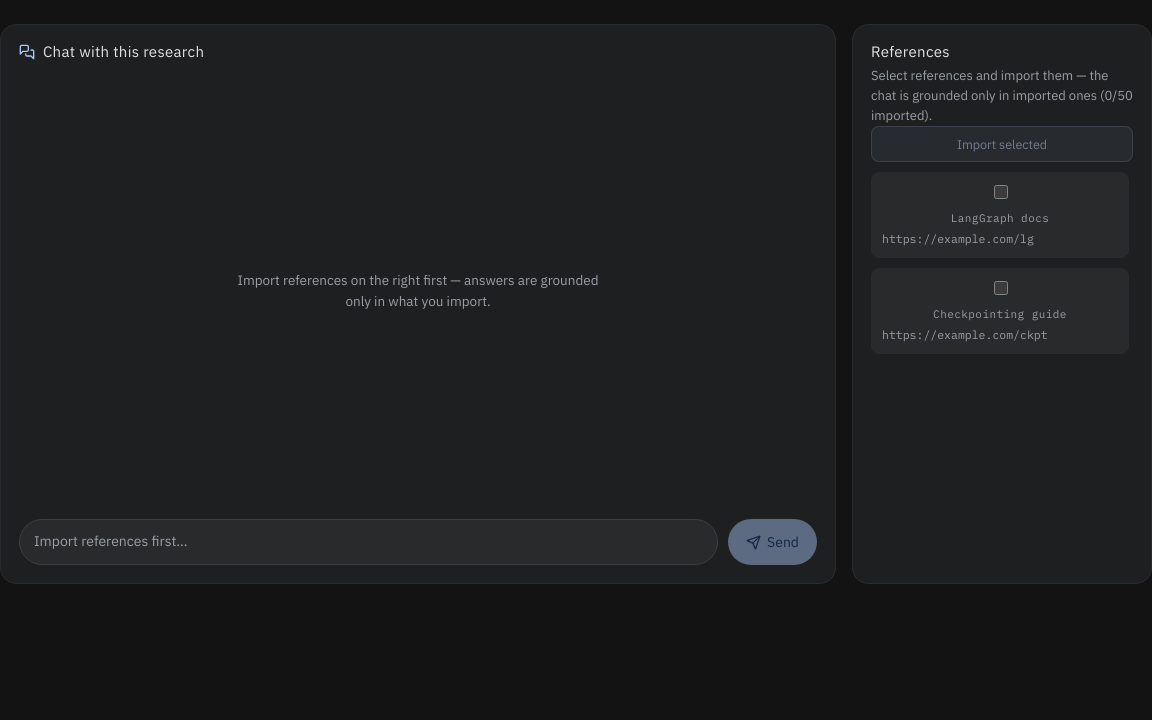
Test: ChatPanel › imports selected references, then sends messages grounded in the import set
This screenshot has width=1152, height=720.
expect the text "LangGraph docs" is shown: met, box x1=951 y1=210 x2=1049 y2=227
Note: Import only the first source.
Click the checkbox labelled "LangGraph docs": point(1000, 192) x1=994 y1=185 x2=1008 y2=199
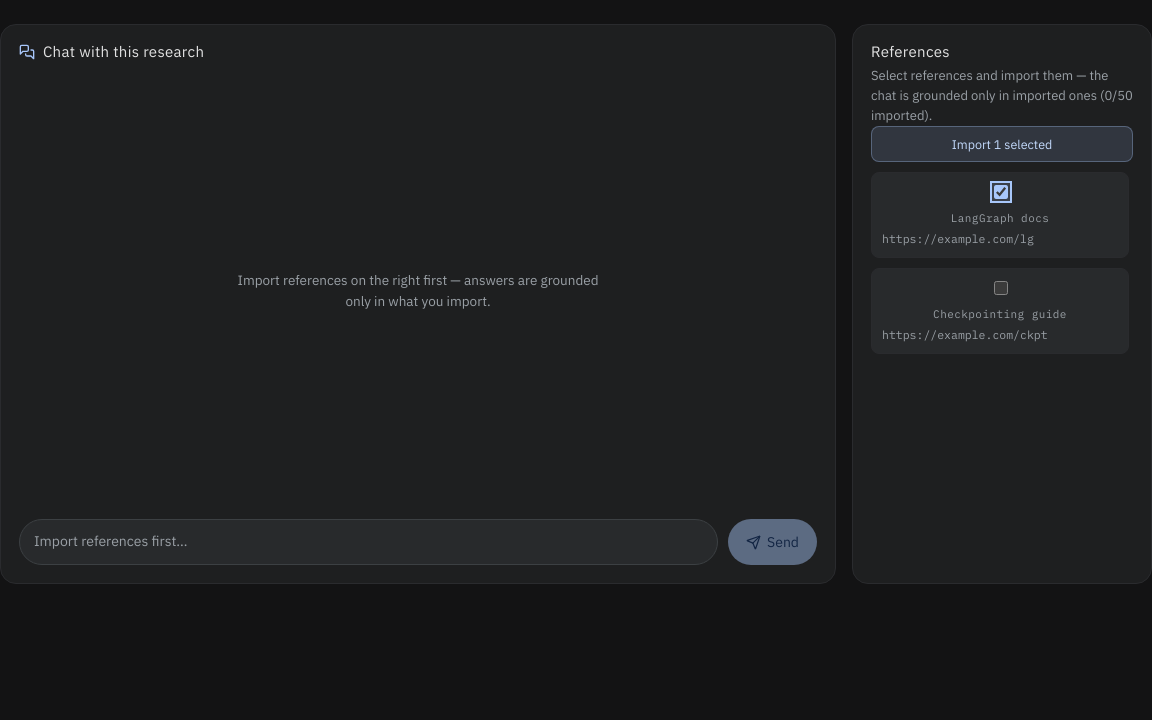
Click the button "Import 1 selected": point(1002, 144) x1=871 y1=126 x2=1133 y2=162
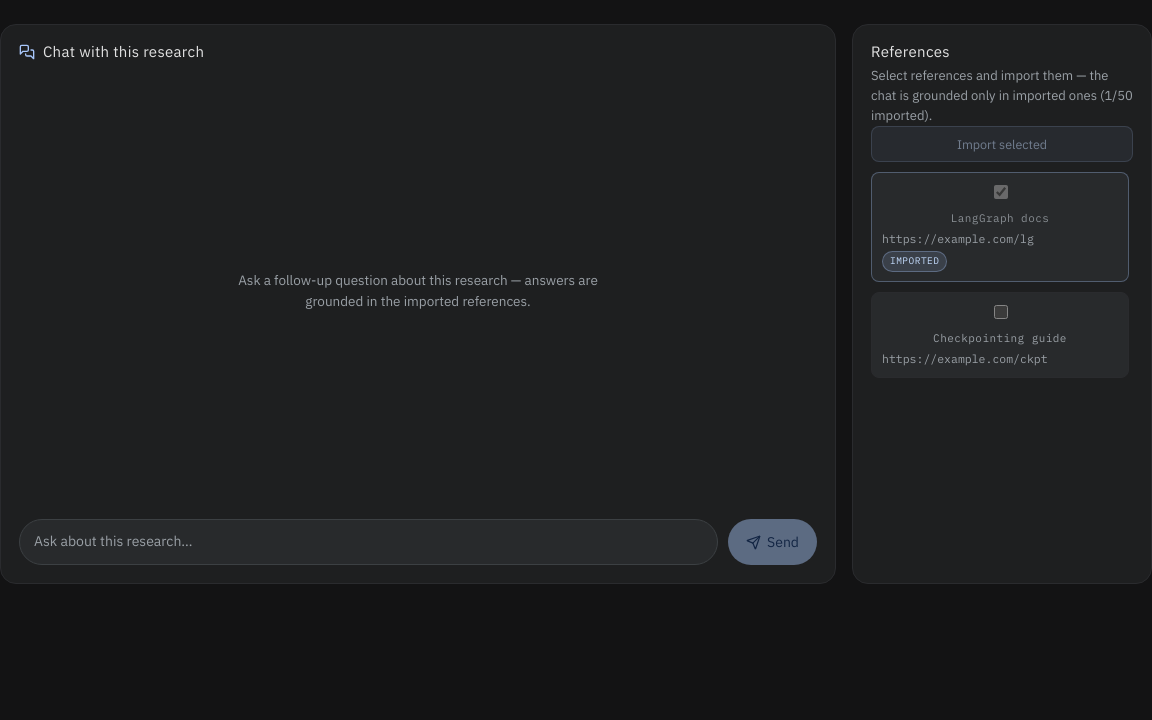
expect the text "Imported" is shown once: met, box x1=882 y1=251 x2=947 y2=272
Note: Send is unlocked and carries exactly the imported set.
In the field named "chat message": point(369, 542) x1=19 y1=519 x2=718 y2=565, type "How does checkpointing work?"
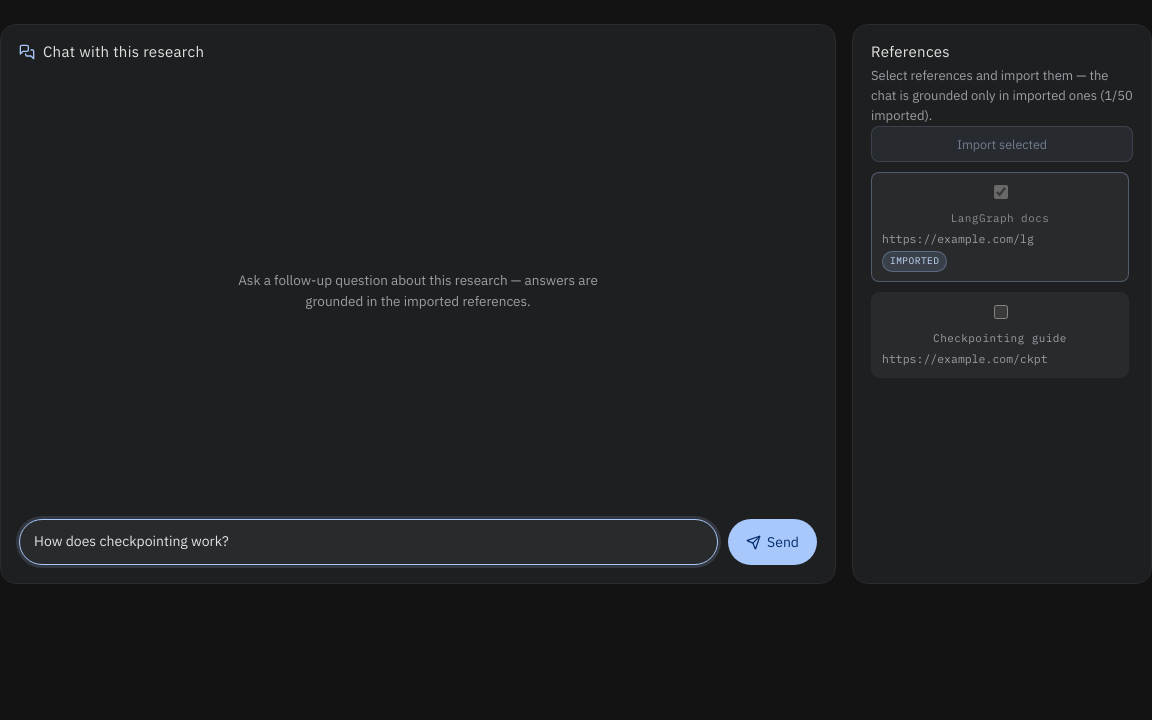
Click the button "Send": point(773, 542) x1=728 y1=519 x2=817 y2=565
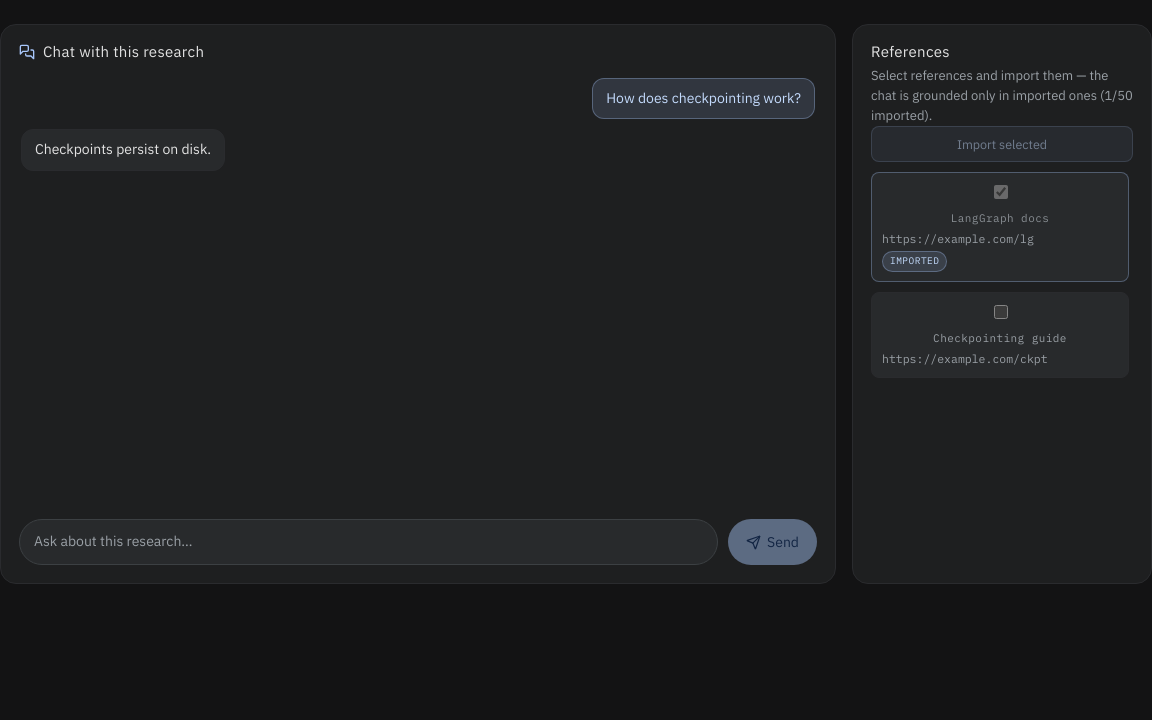
expect the text "Checkpoints persist on disk." is shown: met, box x1=21 y1=129 x2=225 y2=171
